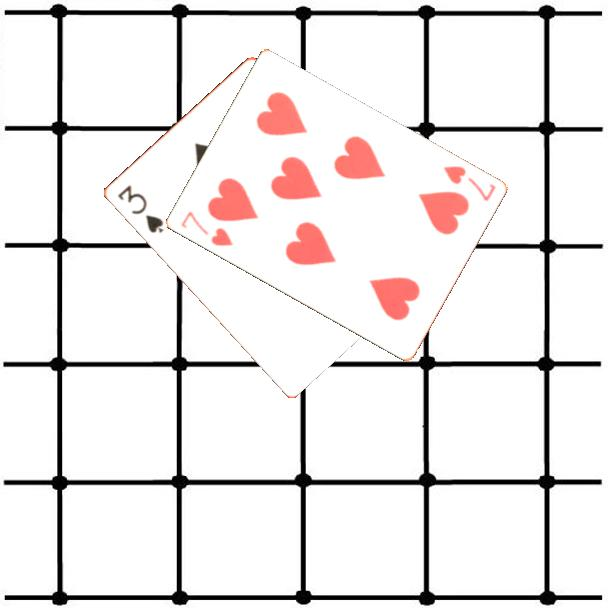h07: (439, 162, 498, 204), (177, 208, 235, 249)
s03: (114, 181, 166, 236)
